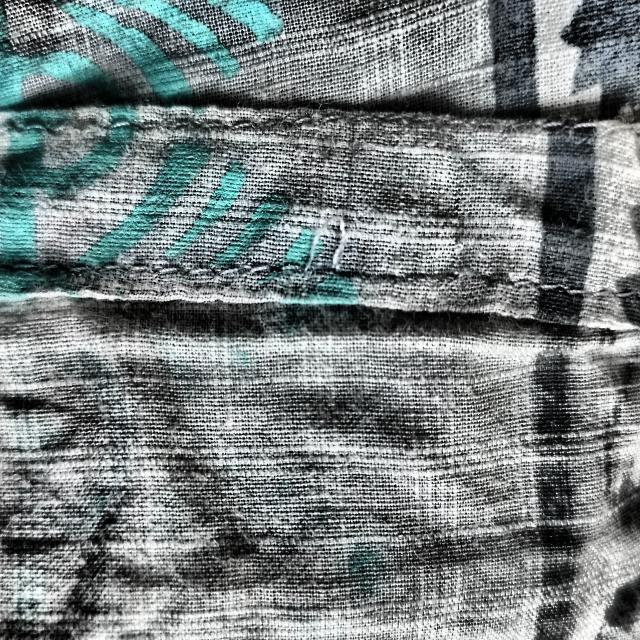Stitch: (306, 188, 354, 321)
